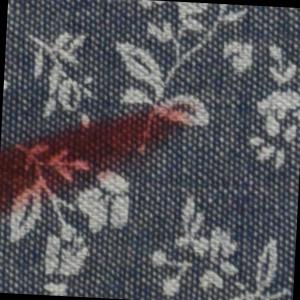Stain: (1, 84, 209, 231)
